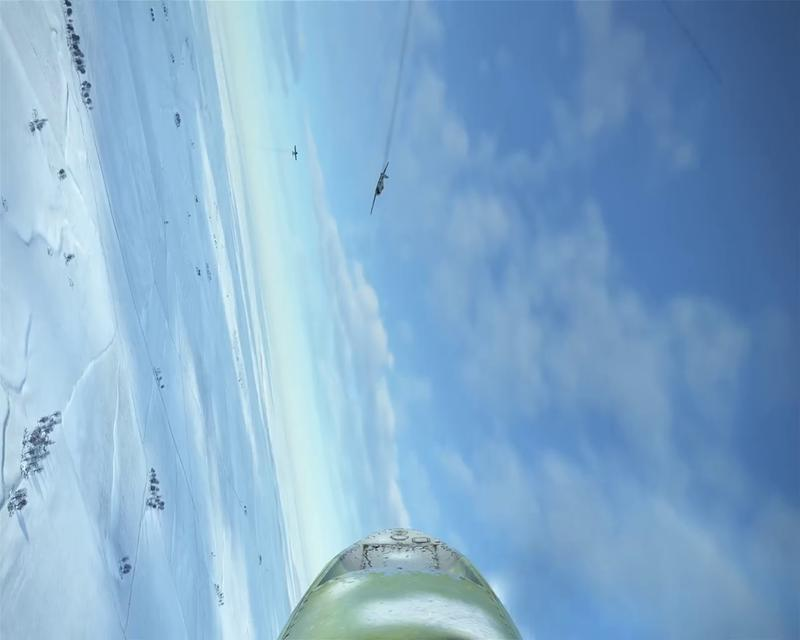UAV: (370, 162, 388, 215), (291, 144, 300, 161)
